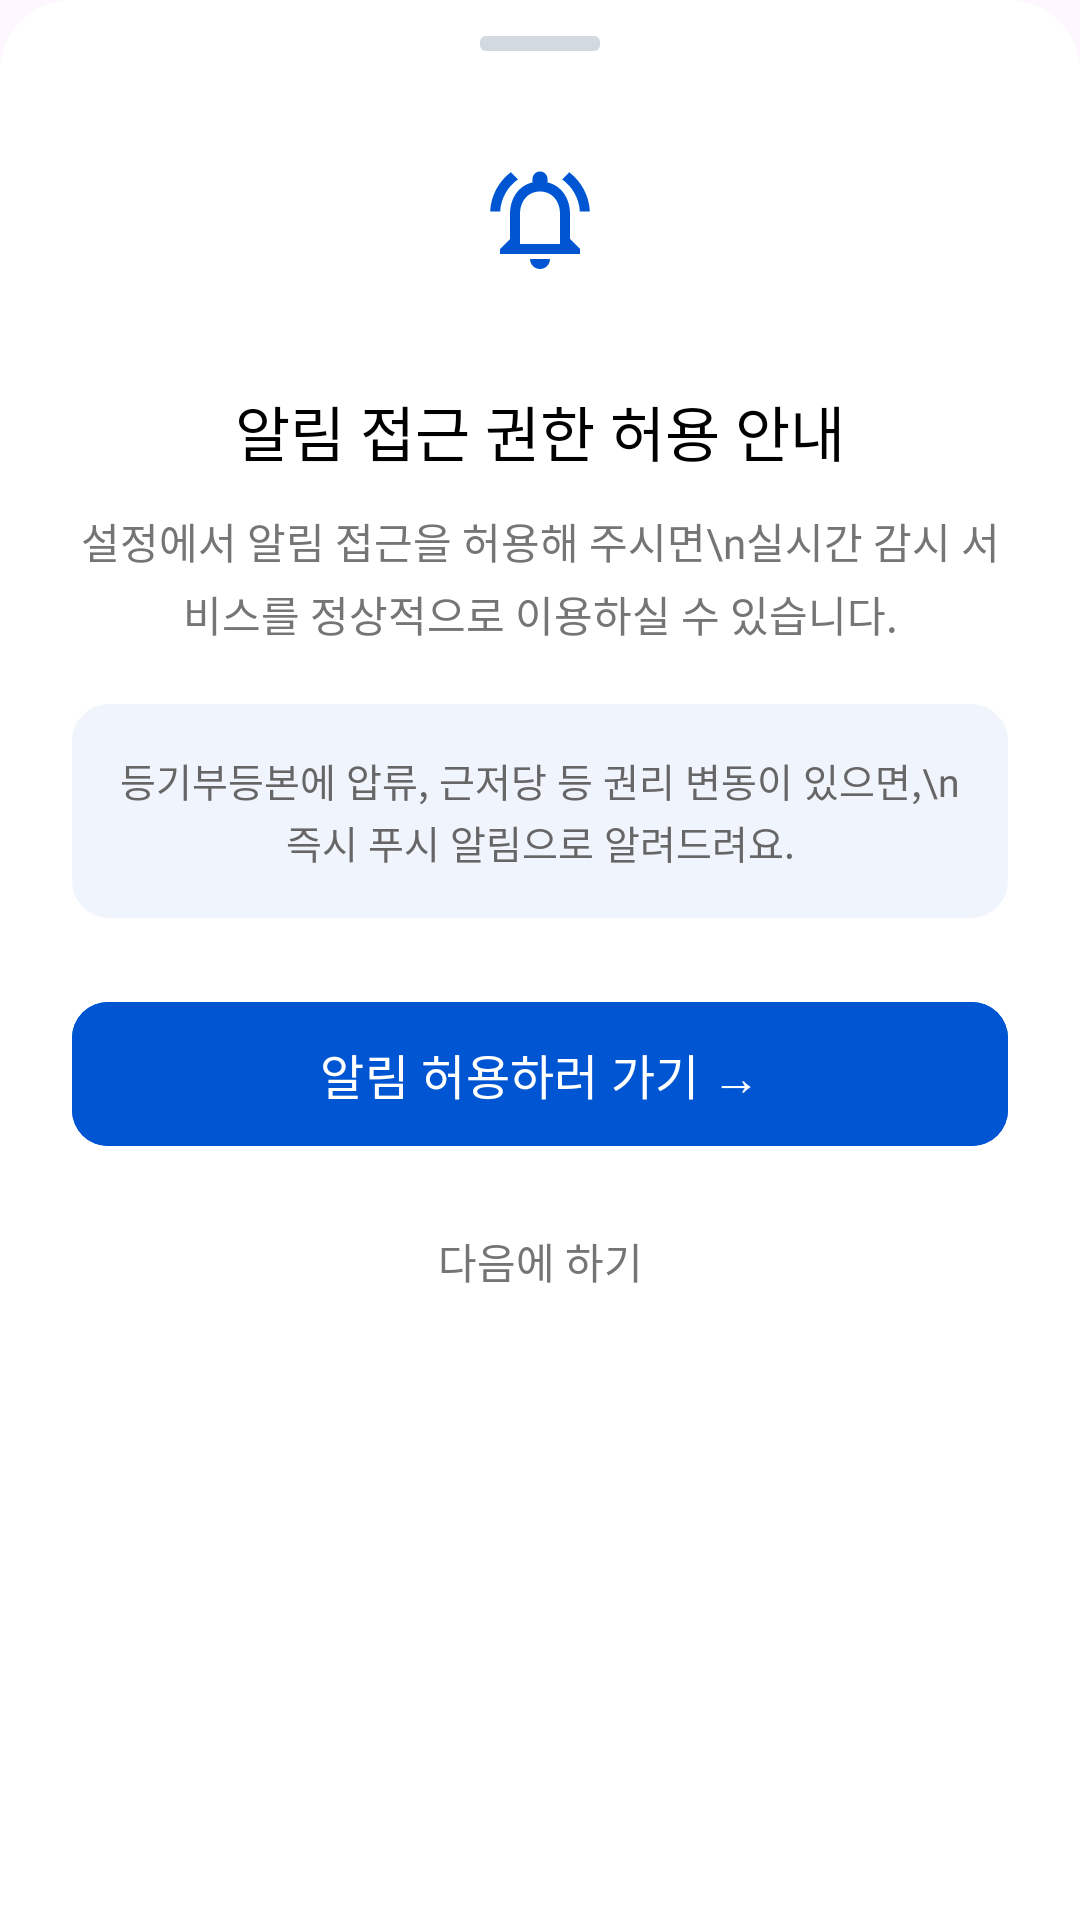

Point at icon controls on the screen. Image size 1080x1920, points as point (x, y).
notifications: point (540, 220)
